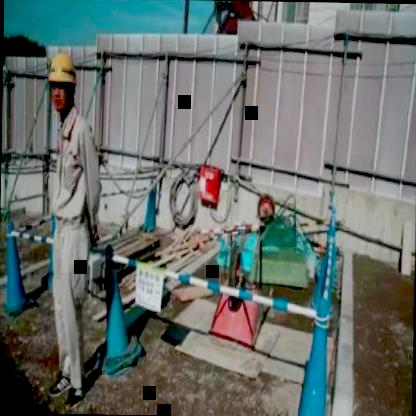helmet: (43, 44, 78, 119)
